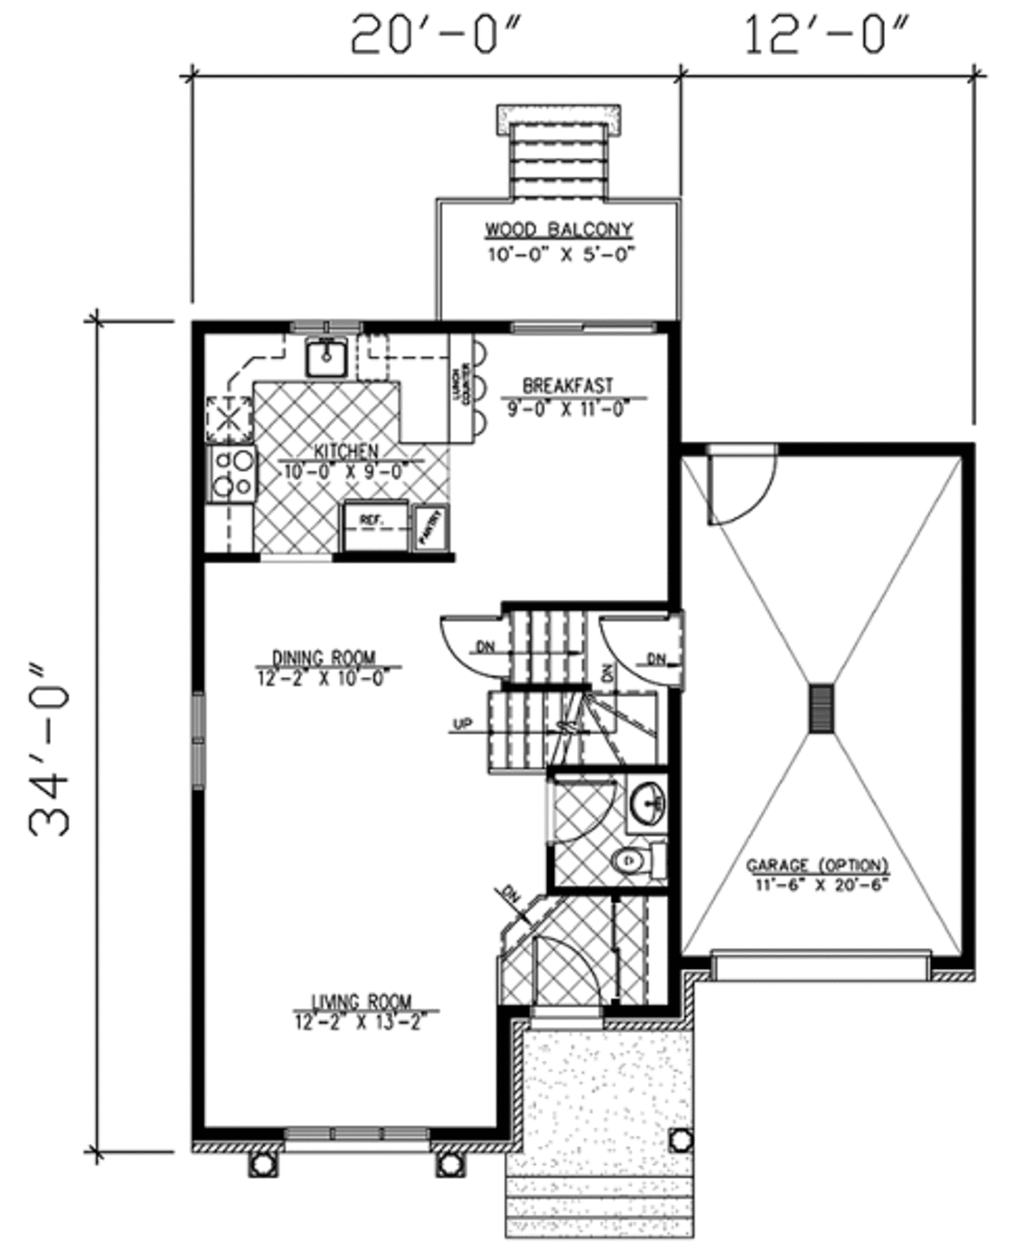door: (698, 441, 778, 526), (596, 610, 682, 687), (430, 604, 511, 685), (542, 776, 623, 844), (527, 933, 601, 1002)
kitchen_bar: (392, 332, 487, 451)
large_sink: (610, 836, 683, 882)
sink: (300, 335, 353, 390)
small_sink: (624, 769, 677, 834)
stairs: (485, 601, 608, 779), (487, 99, 632, 203)
window: (271, 1122, 438, 1162), (505, 315, 658, 339), (181, 688, 210, 796)
